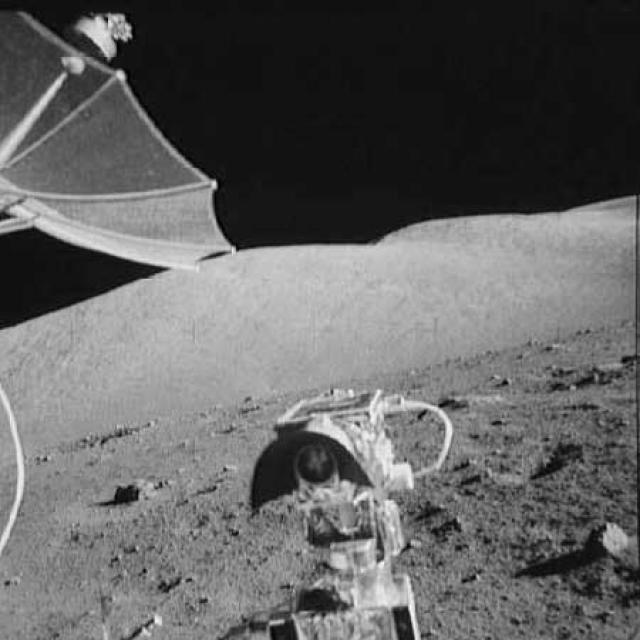artifact: (0, 4, 255, 278), (229, 374, 465, 639), (0, 379, 37, 568)
crater: (39, 416, 155, 454), (508, 435, 580, 479)
rock: (100, 468, 165, 509), (580, 512, 629, 565)
